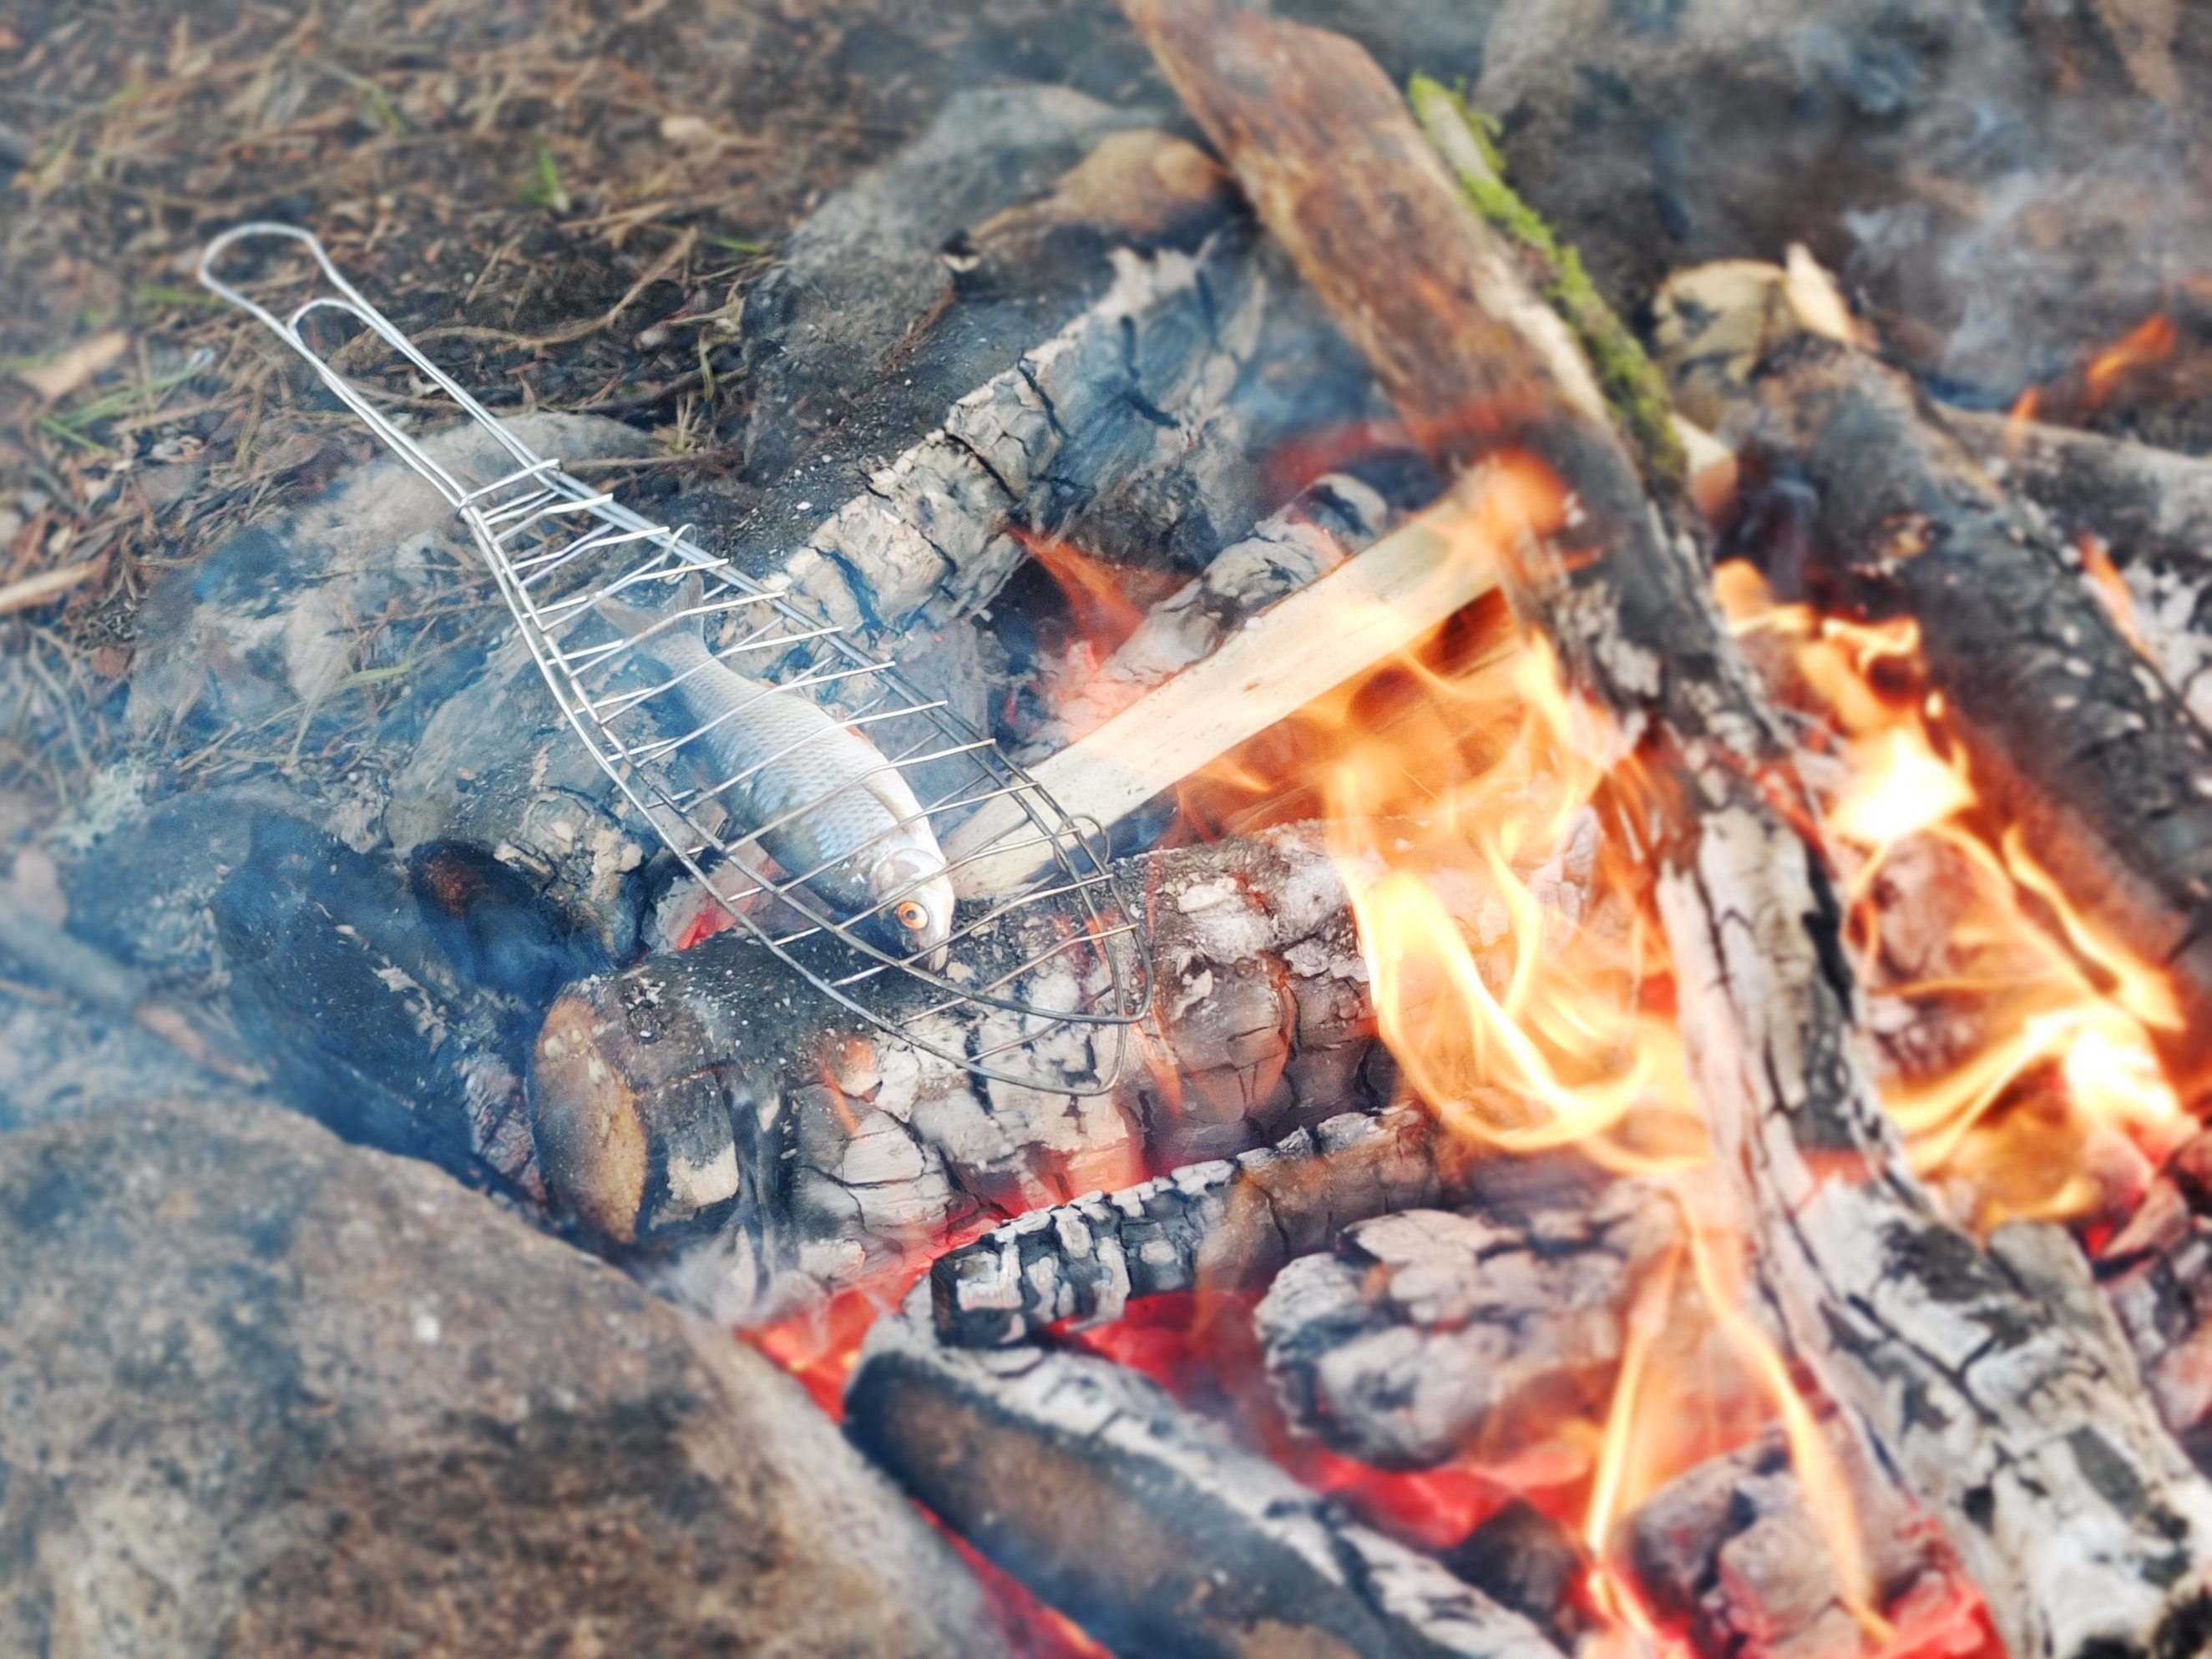fire: (1720, 561, 1975, 842), (2050, 284, 2210, 416)
